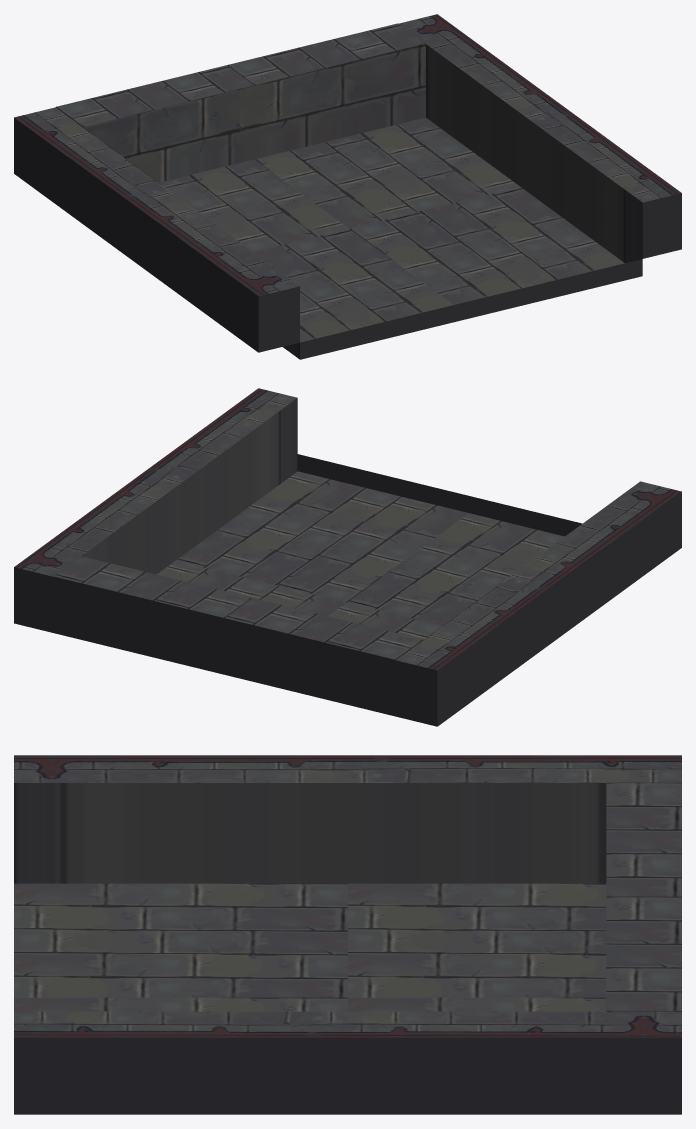
File: Channel_Floor_End.glb
3 renders of one model, top to bottom at view 1: azimuth 30°, elevation 25°; view 2: azimuth 150°, elevation 25°; view 3: azimuth 270°, elevation 25°, orthographic. The views are drawn at different scales.
Parts seen in each view (by area): view 1: Plane.019; view 2: Plane.019; view 3: Plane.019.
Part boxes in pixels (x1,y1,x2,y2): Plane.019: (14, 14, 681, 359); Plane.019: (14, 388, 681, 726); Plane.019: (14, 755, 681, 1114).
Bounding box in the file's own units: 4.05 × 0.676 × 4.05.
1 material, 1 textured.
